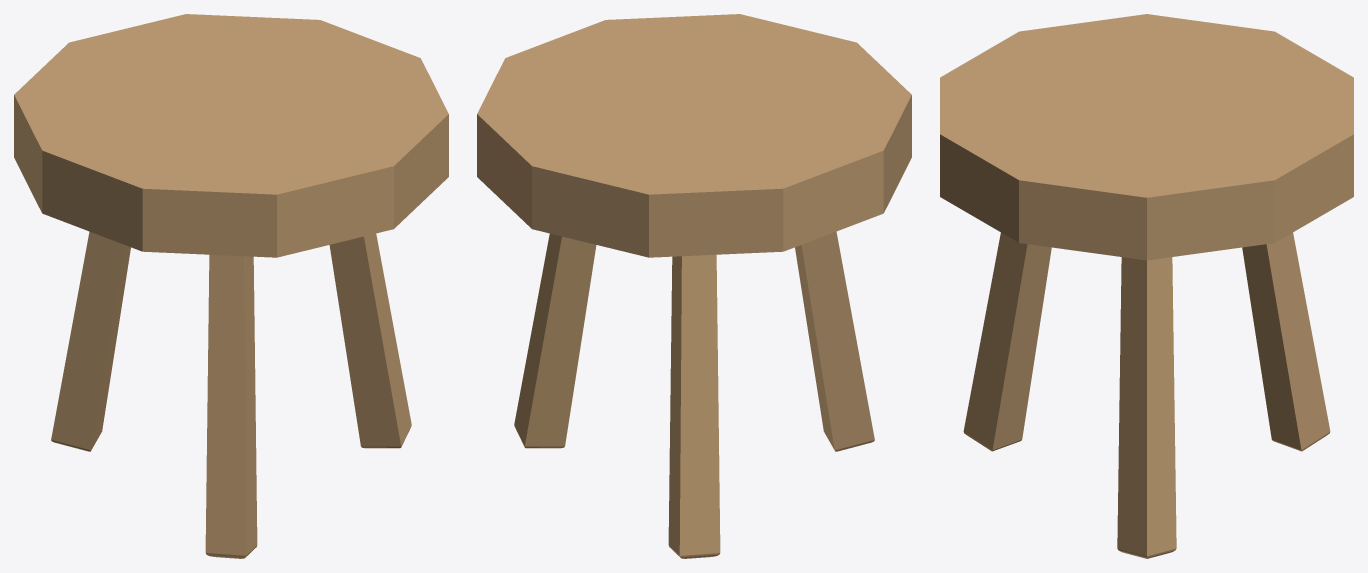
The model's file is milking-stool.glb.
The picture shows the model from 3 angles, left to right: view 1: azimuth 30°, elevation 25°; view 2: azimuth 150°, elevation 25°; view 3: azimuth 270°, elevation 25°; orthographic projection.
Parts seen in each view (by area): view 1: milking-stool; view 2: milking-stool; view 3: milking-stool.
Boxes of the visible parts, <box> form: milking-stool: <box>14,14,448,558</box>; milking-stool: <box>477,14,911,558</box>; milking-stool: <box>940,14,1353,558</box>.
Bounding box in the file's own units: 0.44 × 0.4189 × 0.4185.
